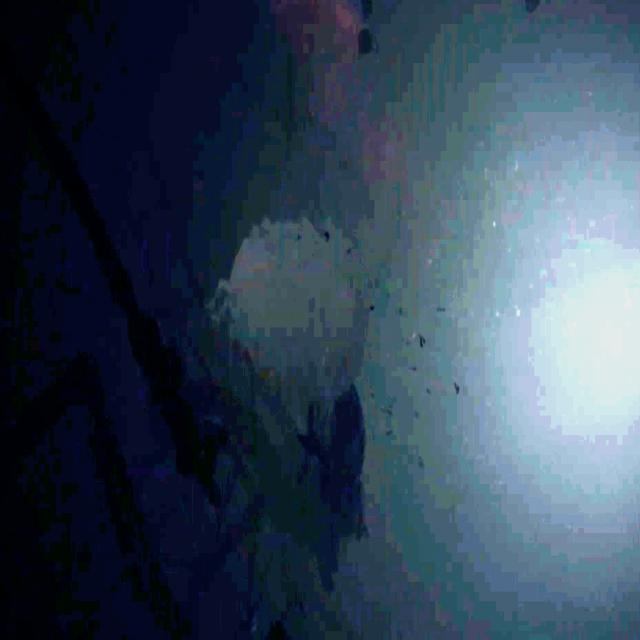blob: (229, 221, 367, 408)
